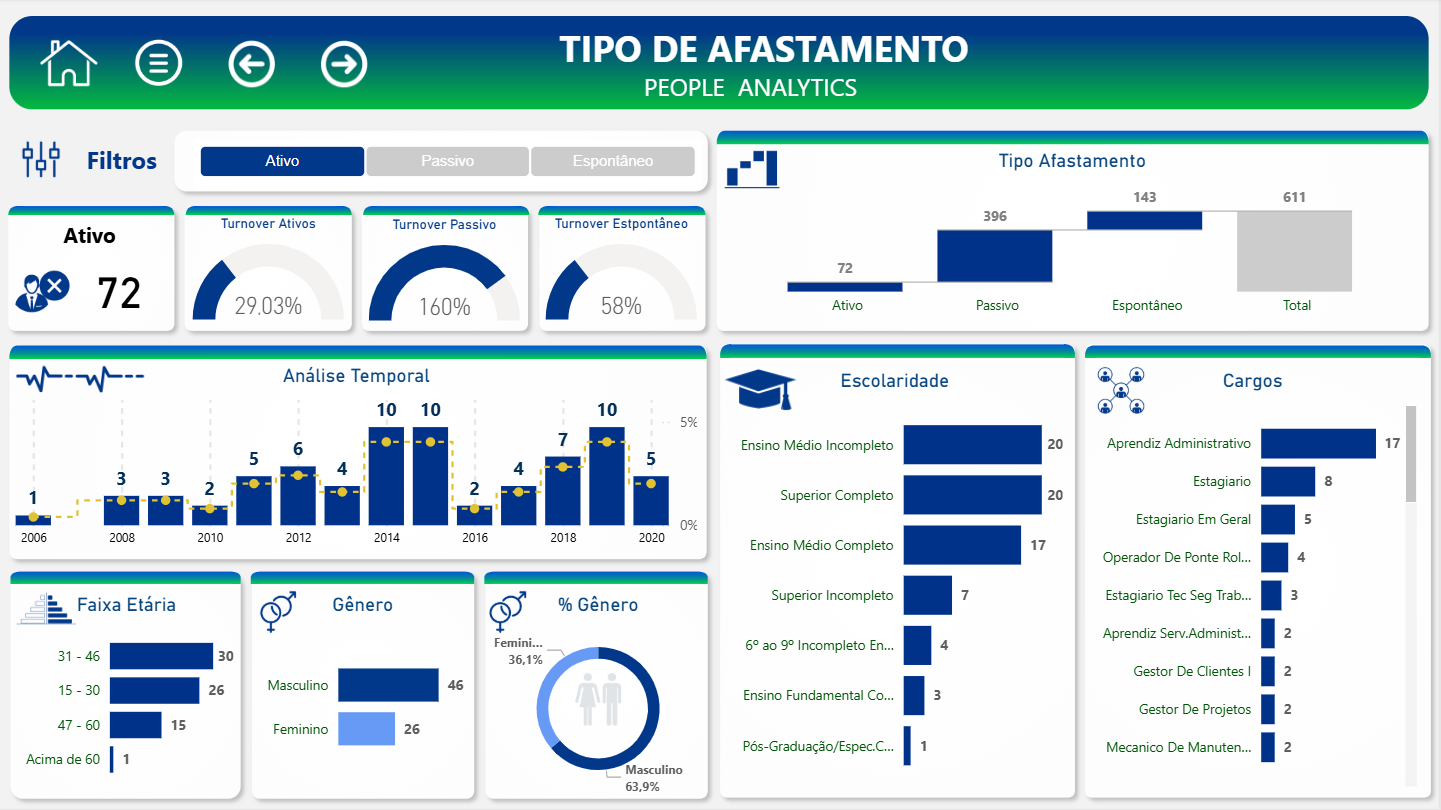

This screenshot's page, from the dashboard's own definition file:
{"tool":"powerbi","page":{"name":"Afastamento","canvas":[1280,720],"ordinal":4},"visuals":[{"type":"clusteredBarChart","title":"Faixa Etária","fields":{"Category":["dFaixa_Etária.FAIXA ETÁRIA"],"Y":["Medidas Afastamento.Afastamento"]},"box":[14.8,527.2,199.8,177.6],"z":0},{"type":"donutChart","title":"% Gênero","fields":{"Y":["Medidas Afastamento.Afastamento"],"Category":["dSexo.SEXO"]},"box":[433.8,527.2,198.8,185.9],"z":1000},{"type":"clusteredBarChart","title":"Gênero","fields":{"Category":["dSexo.SEXO"],"Y":["Medidas Afastamento.Afastamento"]},"box":[229.4,527.2,189.6,176.6],"z":2000},{"type":"clusteredBarChart","title":"Escolaridade","fields":{"Category":["Funcionarios.Escolaridade"],"Y":["Medidas Afastamento.Afastamento"]},"box":[642.3,329.4,308.3,375.1],"z":3000},{"type":"lineClusteredColumnComboChart","title":"Análise Temporal","fields":{"Category":["dCalendario.ANO","dCalendario.MÊS ABREVIADO"],"Y":["Medidas Afastamento.Afastamento"],"Y2":["Medidas Afastamento.% Turnover Ausência"]},"box":[11.1,324.6,614.1,172],"z":4000},{"type":"clusteredBarChart","title":"Cargos","fields":{"Category":["dCargos.Cargo"],"Y":["Medidas Afastamento.Afastamento"]},"box":[962.5,329.4,301,375.1],"z":5000},{"type":"card","fields":{"Values":["Medidas Afastamento.Afastamento"]},"box":[57.3,231.2,100.8,52.7],"z":6000},{"type":"ChicletSlicer1448559807354","fields":{"Category":["dAfastamento.AFASTAMENTO"]},"box":[174.8,126.3,450.2,43],"z":7000},{"type":"gauge","fields":{"Y":["Medidas Afastamento.Turnover Ativos"]},"box":[168.3,193.3,144.3,103.6],"z":8000},{"type":"gauge","fields":{"Y":["Medidas Afastamento.Turnover Passivo"]},"box":[324.6,194.2,144.3,103.6],"z":9000},{"type":"gauge","fields":{"Y":["Medidas Afastamento.Turnover Estpontâneo"]},"box":[481.8,193.3,144.3,103.6],"z":10000},{"type":"waterfallChart","title":"Tipo Afastamento","fields":{"Category":["dAfastamento.AFASTAMENTO"],"Y":["Medidas Afastamento.Afastamento"]},"box":[643.2,133.6,621.2,156.5],"z":11000},{"type":"textbox","box":[378.8,16.9,603.2,86.9],"z":12000},{"type":"textbox","box":[540,58.7,256.6,45.3],"z":13000},{"type":"textbox","title":"Filtar Gráfico","box":[48.5,123.5,97.9,42.1],"z":14000},{"type":"image","box":[14.6,120.8,48.5,44.8],"z":15000},{"type":"card","fields":{"Values":["Medidas Afastamento.Texto Afastamento"]},"box":[14.8,195.1,134.1,33.3],"z":17000},{"type":"actionButton","box":[35,27.2,58.4,66.2],"z":18000},{"type":"actionButton","box":[197.3,23.5,54.5,66.2],"z":19000},{"type":"actionButton","box":[277.8,23.5,57.1,66.2],"z":20000},{"type":"actionButton","box":[115.8,25.2,53.5,65.3],"z":25000}]}

Visuals, with their boxes in screenshot pixels (x1, y1, x2, y2), scaled from the page's 1280x720 canvas onto the 1441x810 screenshot:
"Faixa Etária" clusteredBarChart: bbox=(17, 593, 242, 793)
"% Gênero" donutChart: bbox=(488, 593, 712, 802)
"Gênero" clusteredBarChart: bbox=(258, 593, 472, 792)
"Escolaridade" clusteredBarChart: bbox=(723, 371, 1070, 793)
"Análise Temporal" lineClusteredColumnComboChart: bbox=(12, 365, 704, 559)
"Cargos" clusteredBarChart: bbox=(1084, 371, 1422, 793)
card - Medidas Afastamento.Afastamento: bbox=(65, 260, 178, 319)
ChicletSlicer1448559807354 - dAfastamento.AFASTAMENTO: bbox=(197, 142, 704, 190)
gauge - Medidas Afastamento.Turnover Ativos: bbox=(189, 217, 352, 334)
gauge - Medidas Afastamento.Turnover Passivo: bbox=(365, 218, 528, 335)
gauge - Medidas Afastamento.Turnover Estpontâneo: bbox=(542, 217, 705, 334)
"Tipo Afastamento" waterfallChart: bbox=(724, 150, 1423, 326)
textbox: bbox=(426, 19, 1106, 117)
textbox: bbox=(608, 66, 897, 117)
"Filtar Gráfico" textbox: bbox=(55, 139, 165, 186)
image: bbox=(16, 136, 71, 186)
card - Medidas Afastamento.Texto Afastamento: bbox=(17, 219, 168, 257)
actionButton: bbox=(39, 31, 105, 105)
actionButton: bbox=(222, 26, 283, 101)
actionButton: bbox=(313, 26, 377, 101)
actionButton: bbox=(130, 28, 191, 102)
